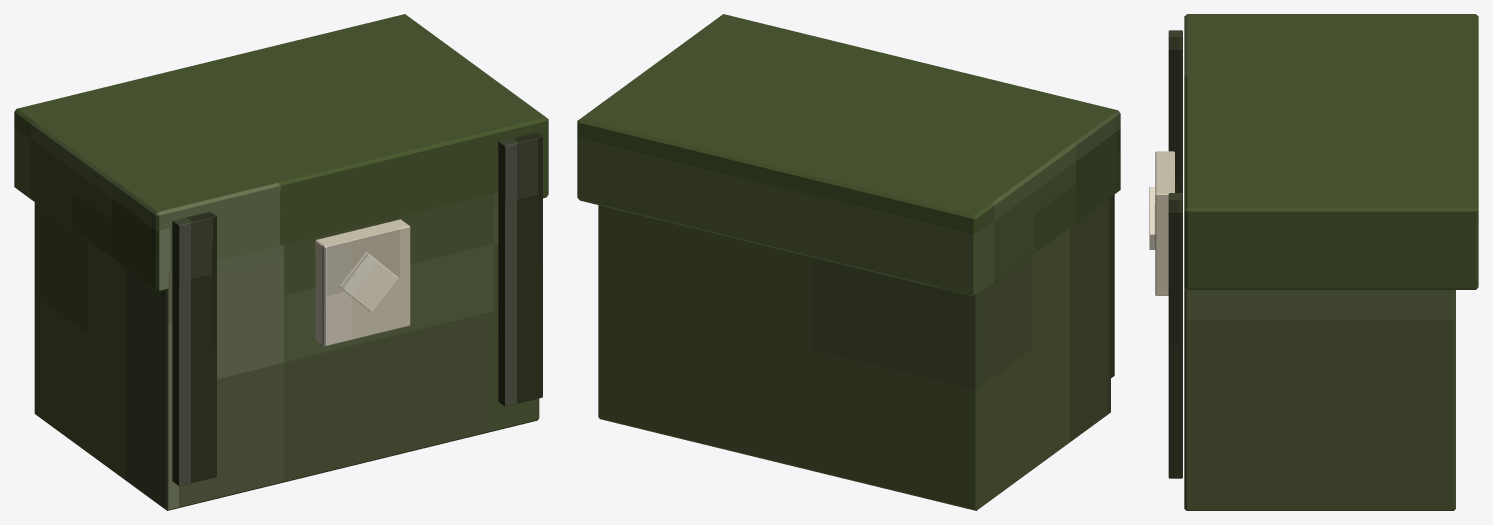
The model's file is toy_chest_olive.glb.
3 renders of one model, left to right at view 1: azimuth 30°, elevation 25°; view 2: azimuth 150°, elevation 25°; view 3: azimuth 270°, elevation 25°, orthographic. The views are drawn at different scales.
Visible parts, largest first — view 1: ChestBody, ChestLid, ChestBand_L, ChestBand_R, ChestLatch, ChestHeart; view 2: ChestBody, ChestLid, ChestBand_L; view 3: ChestLid, ChestBody, ChestBand_R, ChestLatch, ChestBand_L, ChestHeart.
Part boxes in pixels (x1,y1,x2,y2): ChestBody: (34, 192, 539, 510); ChestLid: (14, 14, 548, 292); ChestBand_L: (172, 211, 216, 486); ChestBand_R: (498, 132, 542, 406); ChestLatch: (315, 219, 410, 346); ChestHeart: (339, 252, 398, 312); ChestBody: (598, 197, 1110, 510); ChestLid: (577, 14, 1120, 296); ChestBand_L: (1111, 194, 1114, 377); ChestLid: (1184, 14, 1478, 289); ChestBody: (1184, 287, 1455, 510); ChestBand_R: (1168, 193, 1182, 478); ChestLatch: (1155, 151, 1174, 295); ChestBand_L: (1168, 30, 1182, 193); ChestHeart: (1149, 187, 1155, 249).
Bounding box in the file's own units: 0.82 × 0.6 × 0.582.
Materials: 1 (1 with a texture image).
